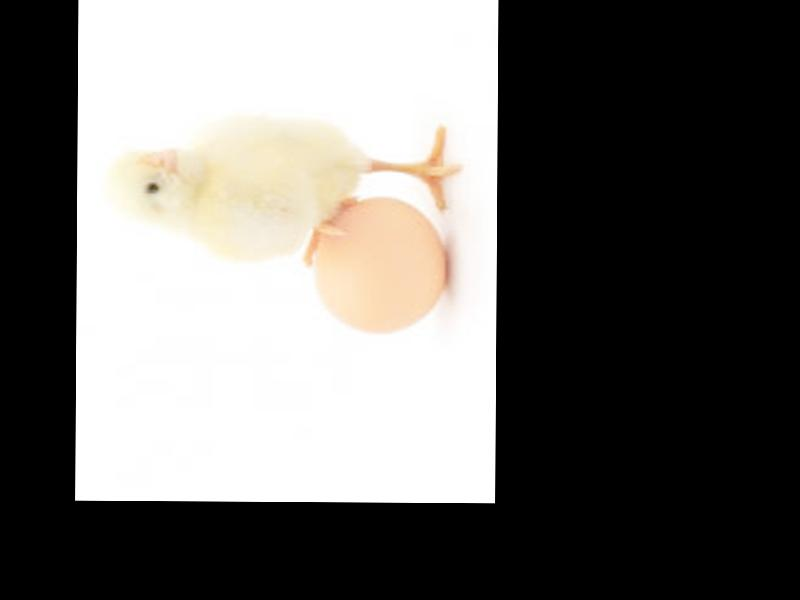Eggs: (307, 194, 445, 335)
